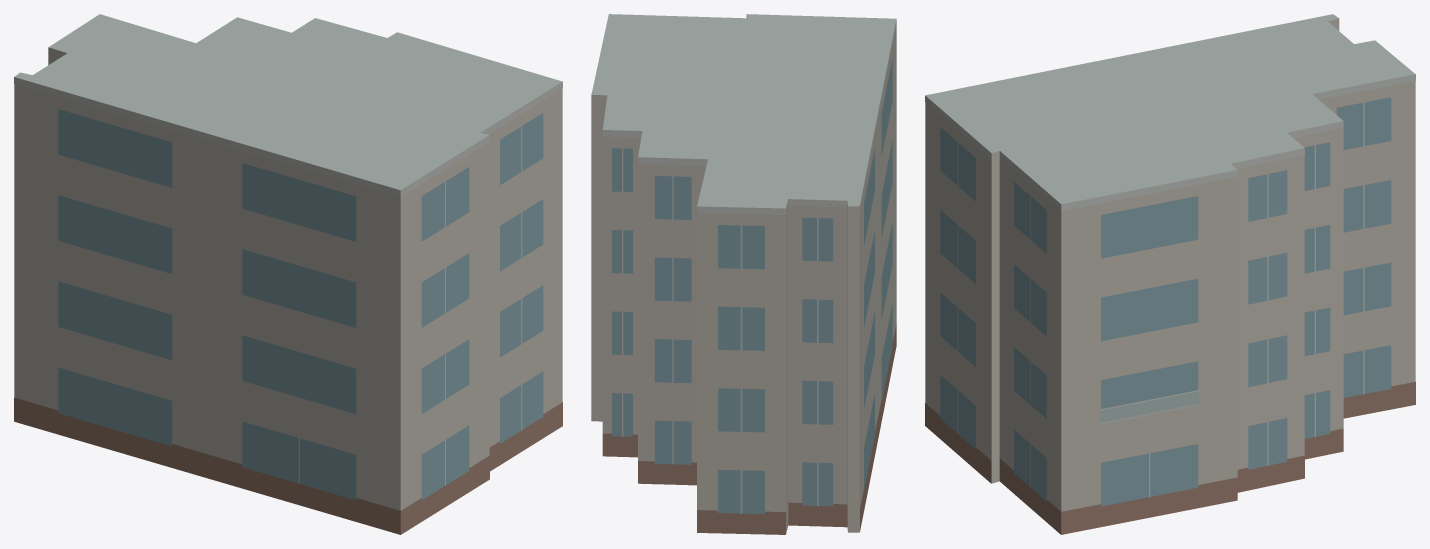
Rendered from survey-upis-32738154.glb.
3 renders of one model, left to right at view 1: azimuth 30°, elevation 25°; view 2: azimuth 150°, elevation 25°; view 3: azimuth 270°, elevation 25°, orthographic. The views are drawn at different scales.
Parts seen in each view (by area): view 1: survey-upis-32738154.tmp; view 2: survey-upis-32738154.tmp; view 3: survey-upis-32738154.tmp.
Boxes of the visible parts, x1,y1,x2,y2 form: survey-upis-32738154.tmp: [14, 14, 562, 534]; survey-upis-32738154.tmp: [591, 14, 896, 534]; survey-upis-32738154.tmp: [925, 14, 1415, 534].
Size of the model in its own units: 14.8 by 11.98 by 16.12.
